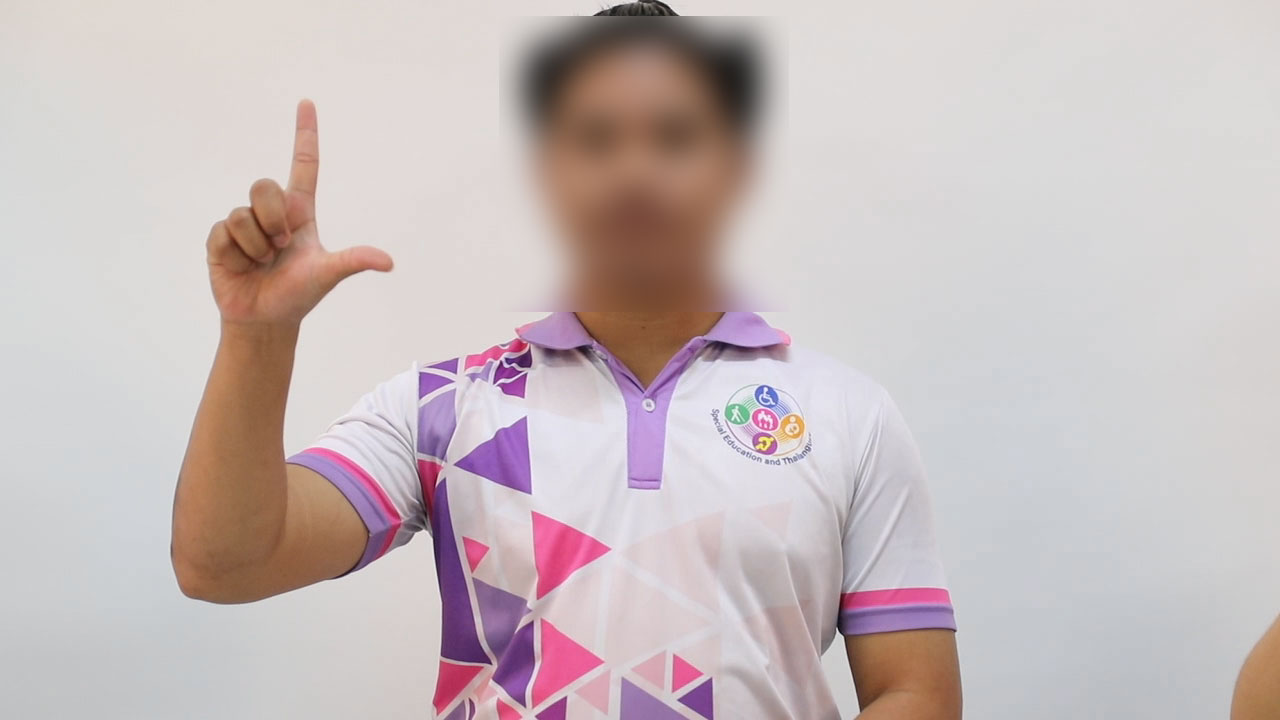lor: (190, 80, 414, 351)
